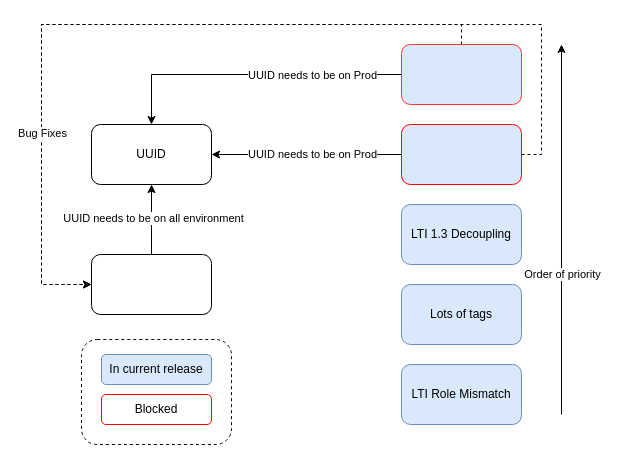
Some shapes in this 617 by 462 pixel diagram are drawn without their labels. The centre of each missing label's shape, as x and y in pixels:
"App linking in Assignment page to result book" goes at (x=461, y=74).
"Courseware Assignment Options (on staging)" goes at (x=461, y=154).
"Montrell's Refactor" goes at (x=151, y=284).
